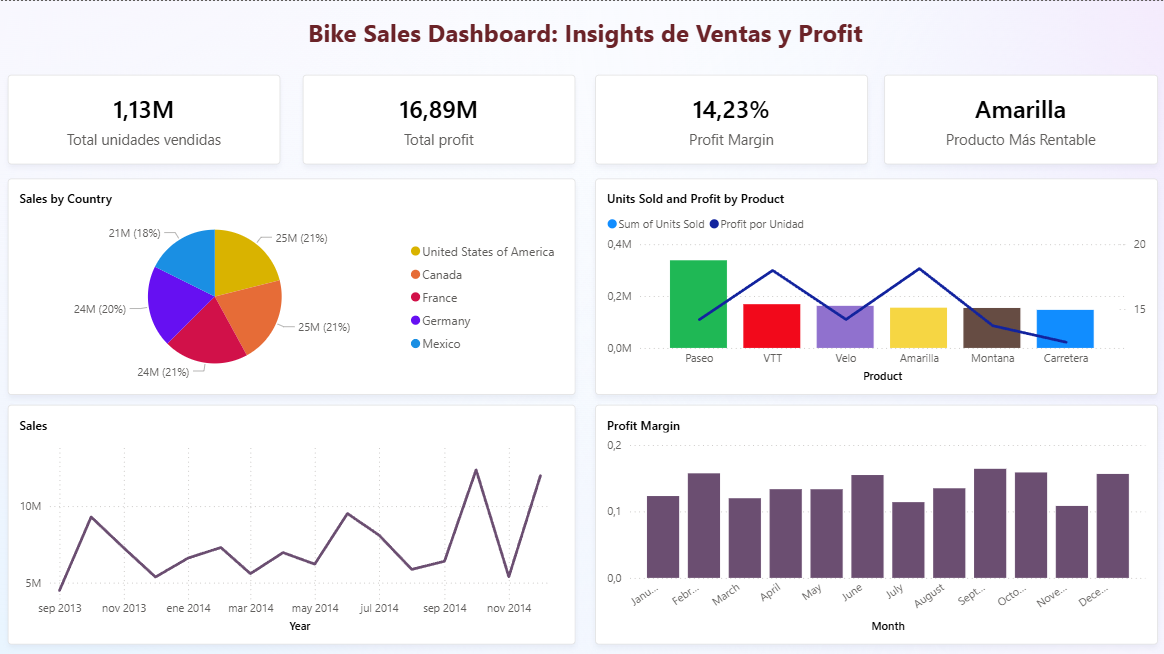

What the dashboard file says about the page in this screenshot:
{"tool":"powerbi","page":{"name":"Page 1","canvas":[1280,720],"ordinal":0},"visuals":[{"type":"card","fields":{"Values":["financials.Total unidades vendidas"]},"box":[9.6,81,299.1,98.8],"z":0},{"type":"card","fields":{"Values":["financials.Total profit"]},"box":[333.4,81,299.1,98.8],"z":1000},{"type":"card","fields":{"Values":["financials.Profit Margin"]},"box":[654.5,81,299.1,98.8],"z":2000},{"type":"card","fields":{"Values":["financials.Producto Más Rentable"]},"box":[971.5,81,300.5,98.8],"z":3000},{"type":"pieChart","title":"Sales by Country","fields":{"Category":["financials.Country"],"Y":["Sum(financials.Sales)"]},"box":[9.6,194.9,623,237.4],"z":4000},{"type":"lineChart","title":"Sales","fields":{"Y":["financials.Ventas diarias"],"Category":["financials.Date.Variation.Date Hierarchy.Year","financials.Date.Variation.Date Hierarchy.Quarter","financials.Date.Variation.Date Hierarchy.Month"]},"box":[9.6,443.2,623,263.5],"z":5000},{"type":"lineClusteredColumnComboChart","title":"Units Sold and Profit by Product","fields":{"Category":["financials.Product"],"Y":["Sum(financials.Units Sold)"],"Y2":["financials.Profit por Unidad"]},"box":[654.5,194.9,617.5,237.4],"z":6000},{"type":"columnChart","title":"Profit Margin","fields":{"Category":["financials.Date.Variation.Date Hierarchy.Month"],"Y":["financials.Profit Margin"]},"box":[654.5,443.2,617.5,263.5],"z":7000},{"type":"textbox","box":[17.8,11,1251.5,46.7],"z":8000}]}

Visuals, with their boxes in screenshot pixels (x1, y1, x2, y2), scaled from the page's 1280x720 canvas onto the 1164x654 screenshot:
card - financials.Total unidades vendidas: bbox=(9, 74, 281, 163)
card - financials.Total profit: bbox=(303, 74, 575, 163)
card - financials.Profit Margin: bbox=(595, 74, 867, 163)
card - financials.Producto Más Rentable: bbox=(883, 74, 1157, 163)
"Sales by Country" pieChart: bbox=(9, 177, 575, 393)
"Sales" lineChart: bbox=(9, 403, 575, 642)
"Units Sold and Profit by Product" lineClusteredColumnComboChart: bbox=(595, 177, 1157, 393)
"Profit Margin" columnChart: bbox=(595, 403, 1157, 642)
textbox: bbox=(16, 10, 1154, 52)
